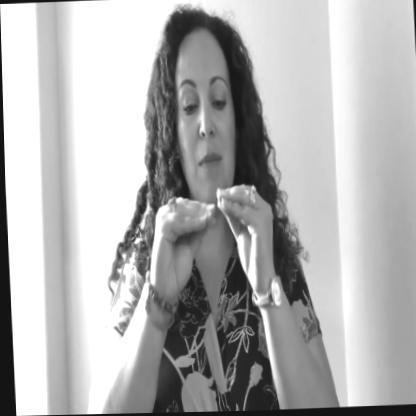Fix: (149, 152, 278, 351)
